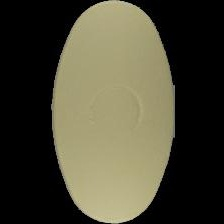68788-9884: (0, 0, 224, 224)
